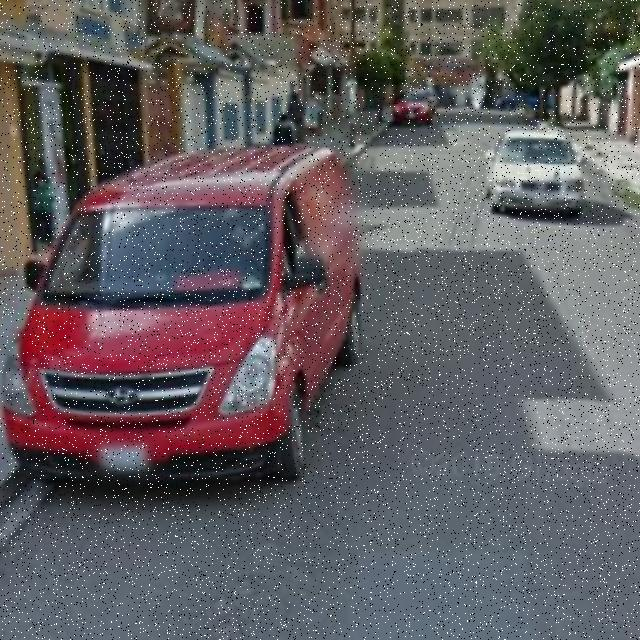cars: (16, 163, 366, 491), (477, 117, 597, 240), (392, 84, 442, 135)
